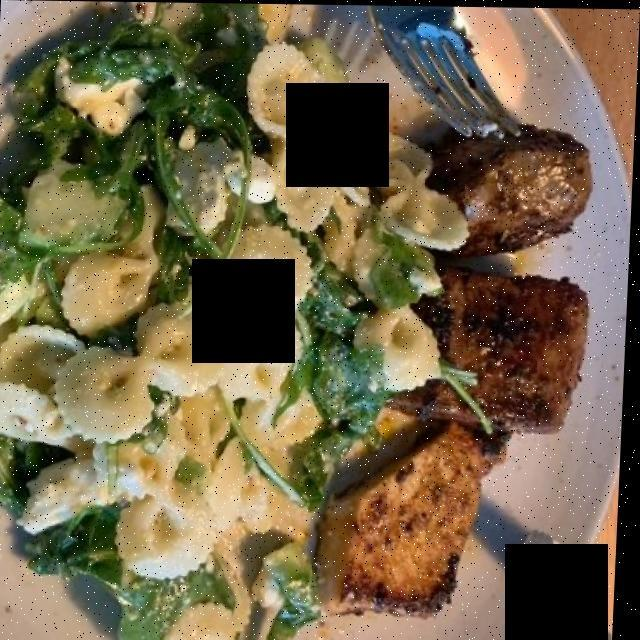cheese: (44, 73, 151, 131)
lamb: (402, 133, 595, 429)
pasta: (0, 29, 462, 567)
